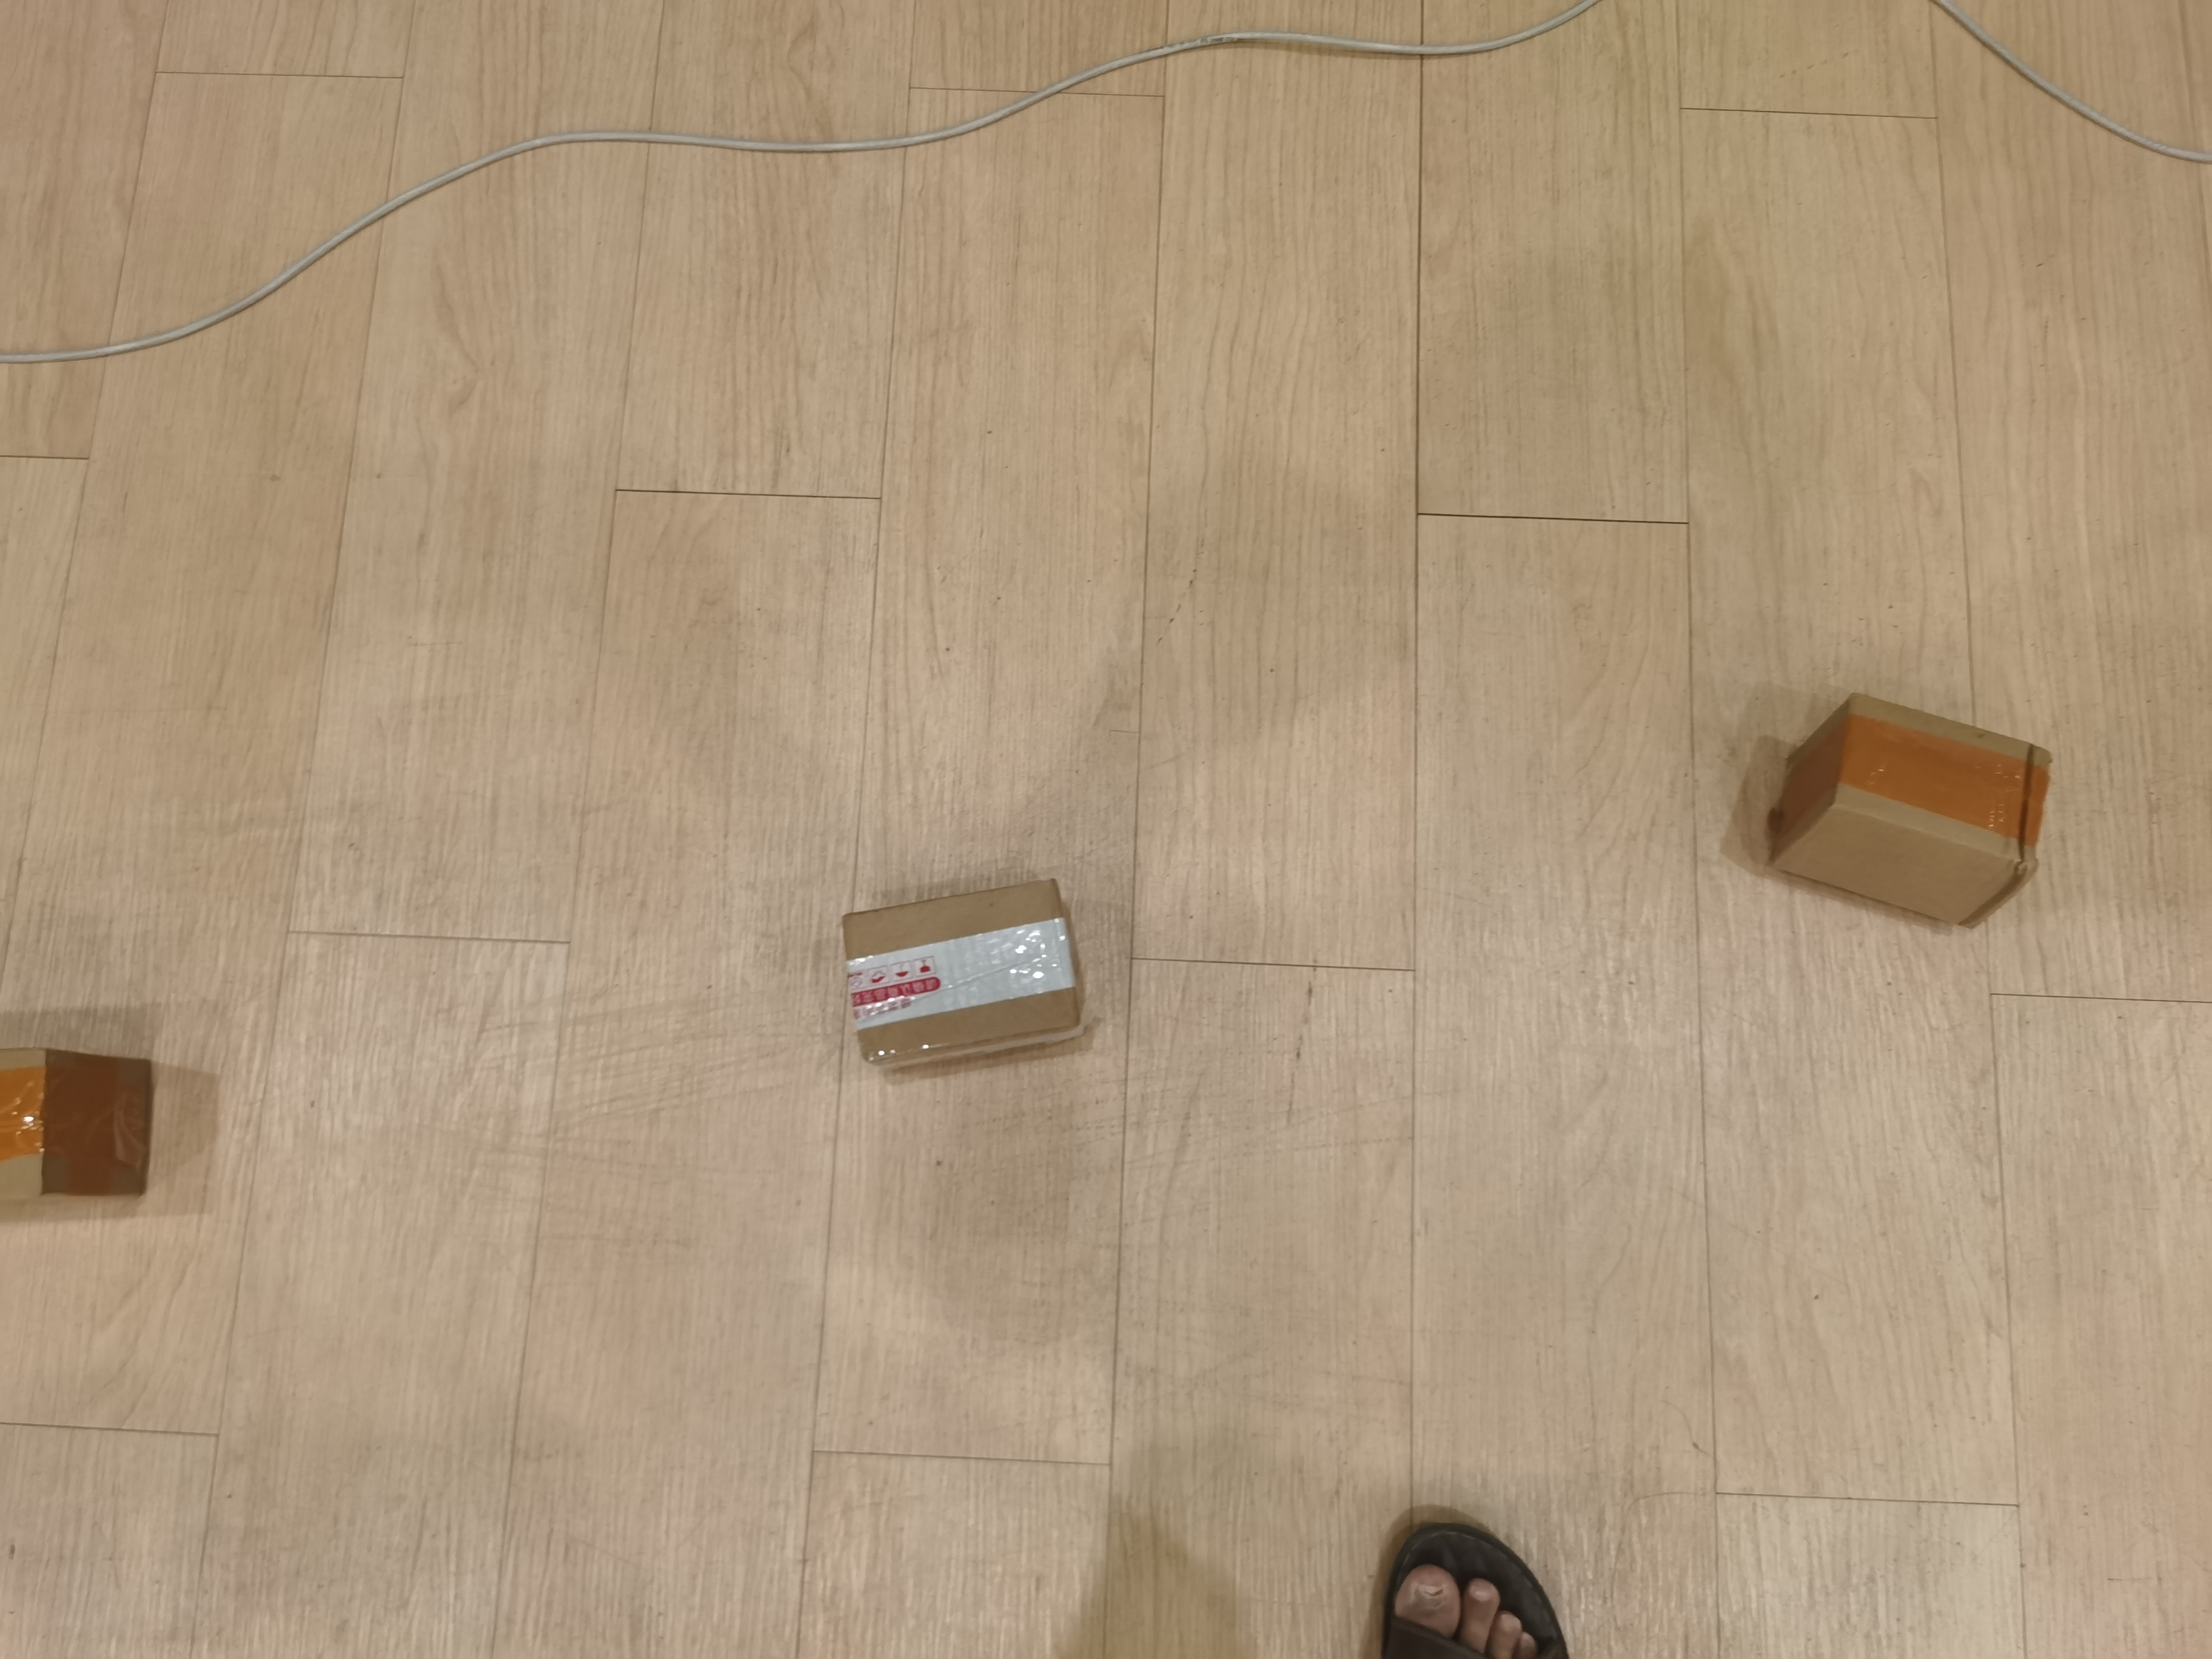box: (1750, 709, 2052, 958), (826, 882, 1120, 1079), (5, 1042, 172, 1229)
